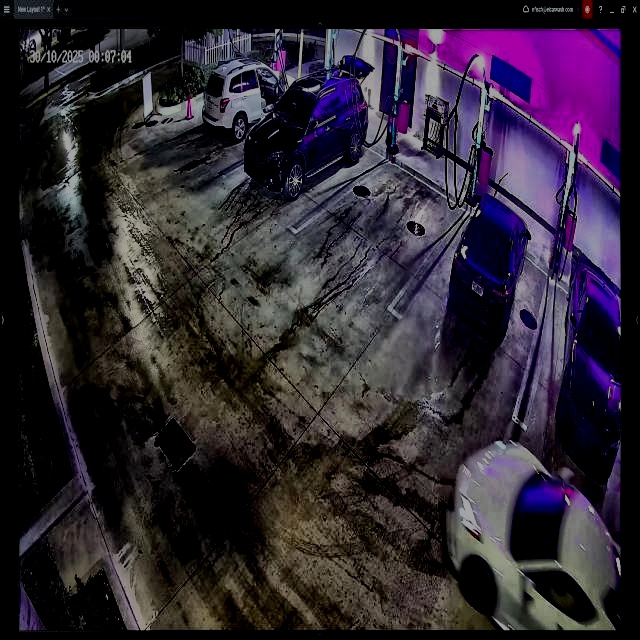Car: (446, 442, 621, 634), (243, 62, 368, 197), (449, 195, 530, 335)
